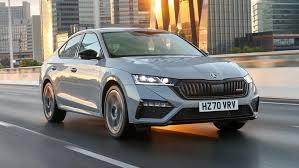skoda: (207, 70, 221, 81)
